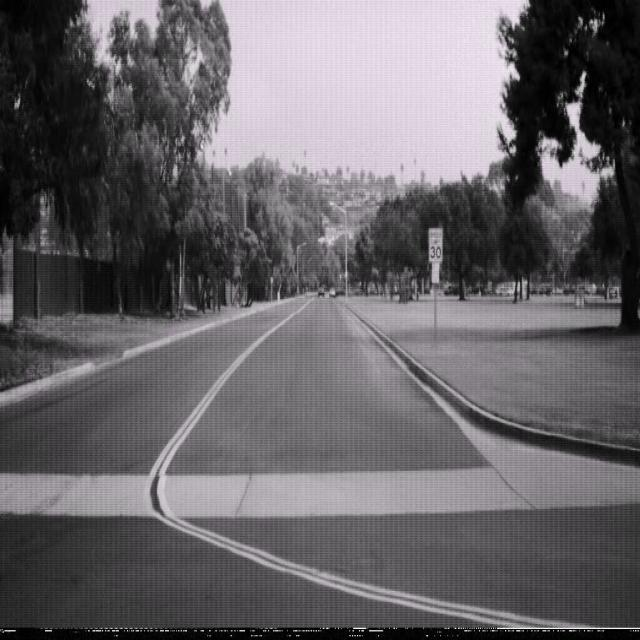speedLimit30: (428, 225, 443, 262)
